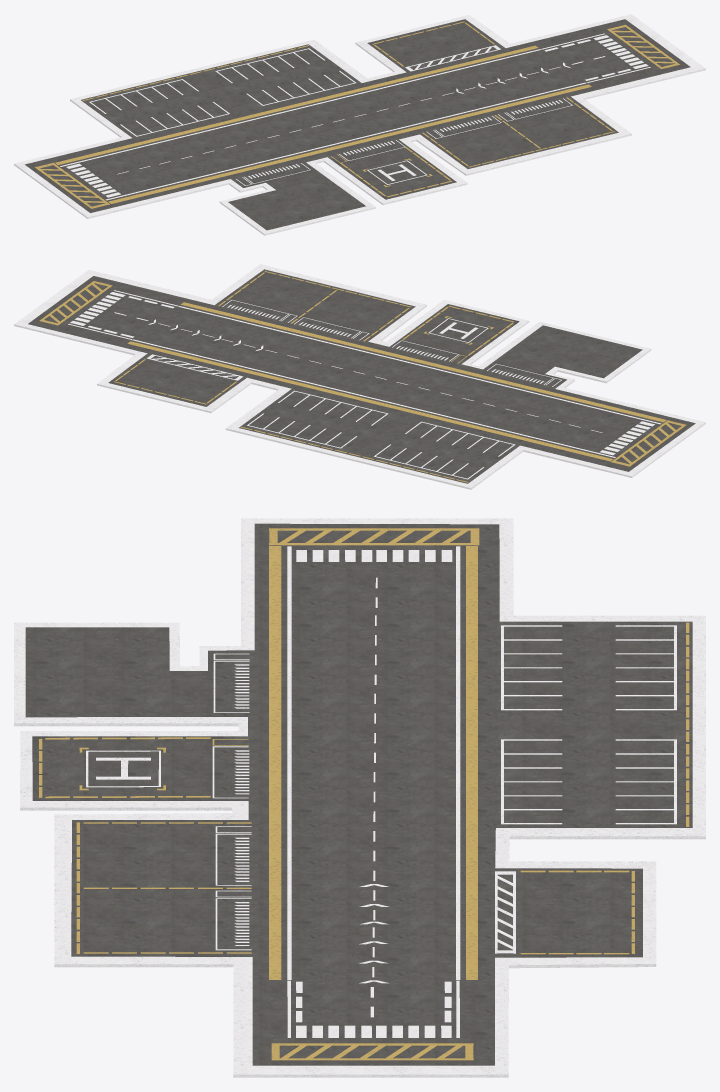
The model's file is airport.glb.
The picture shows the model from 3 angles, top to bottom: view 1: azimuth 30°, elevation 25°; view 2: azimuth 150°, elevation 25°; view 3: azimuth 270°, elevation 25°; orthographic projection. The views are drawn at different scales.
Visible parts, largest first — view 1: 3DSMeshMatrix (×13); view 2: 3DSMeshMatrix (×13); view 3: 3DSMeshMatrix (×19).
Boxes of the visible parts, bbox=[...] form: 3DSMeshMatrix (×13): bbox=[14, 14, 705, 235]; 3DSMeshMatrix (×13): bbox=[14, 264, 705, 489]; 3DSMeshMatrix (×19): bbox=[14, 518, 705, 1077].
Bounding box in the file's own units: 3000 × 11.1 × 1577.
5 materials, 5 textured.
